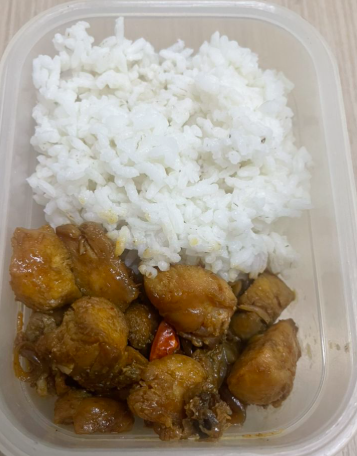daging: (21, 279, 292, 419)
makanan_berpati: (39, 74, 288, 214)
